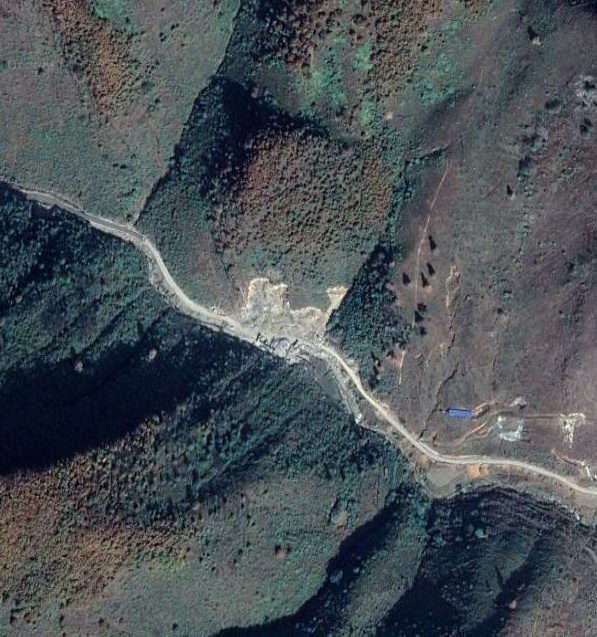slope: (216, 274, 360, 375)
